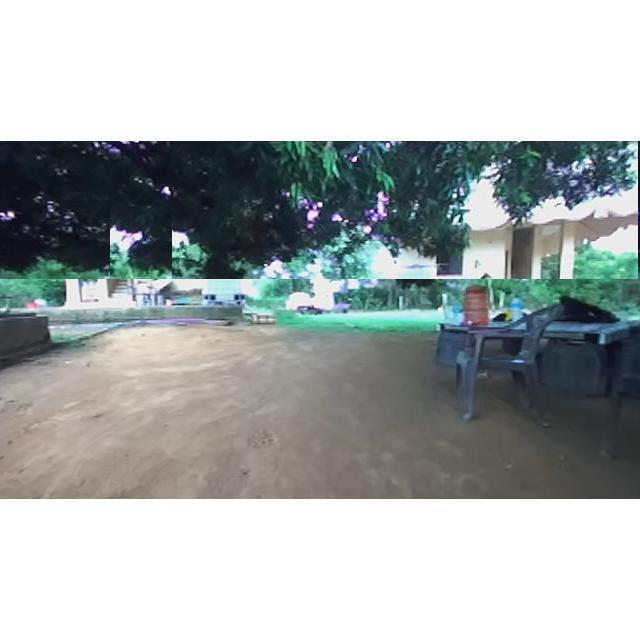direk: (0, 141, 638, 279), (466, 206, 528, 312)
